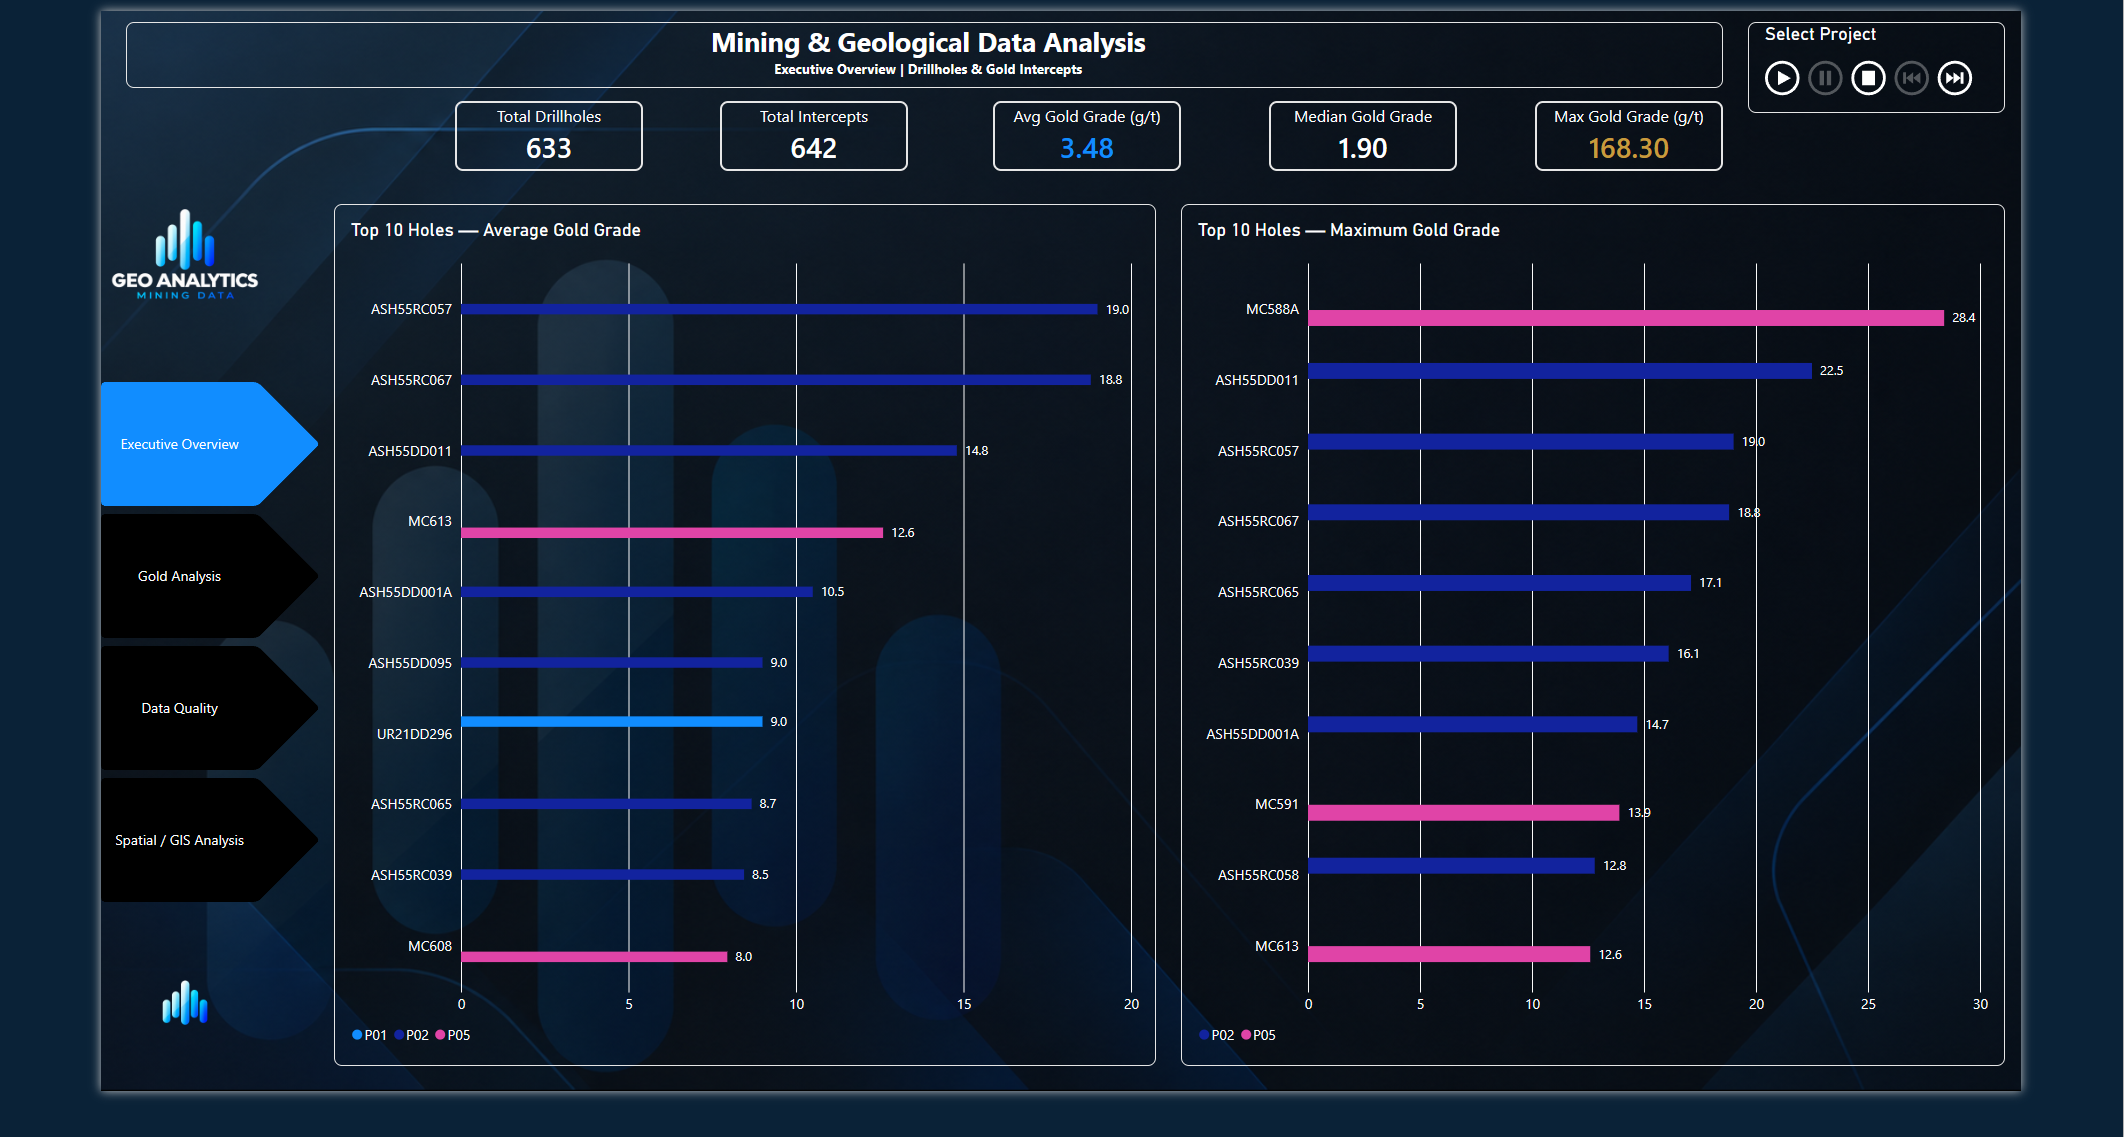

What the dashboard file says about the page in this screenshot:
{"tool":"powerbi","page":{"name":"Executive Overview","canvas":[1920,1080],"ordinal":0},"visuals":[{"type":"cardVisual","fields":{"Data":["Count(mining_geology_project drillholes.Collar_Record_ID)"]},"box":[0,58.6,241.8,70],"z":0},{"type":"cardVisual","fields":{"Data":["Count(mining_geology_project intercepts.Intercept_ID)"]},"box":[232.6,58.9,240.5,69.7],"z":1000},{"type":"cardVisual","fields":{"Data":["Max(mining_geology_project intercepts.Au_g_t)"]},"box":[932.2,58.6,245.9,70],"z":2000},{"type":"cardVisual","fields":{"Data":["Avg(mining_geology_project intercepts.Au_g_t)"]},"box":[460.4,58.9,256.2,69.7],"z":3000},{"type":"PBI_CV_16948668_E17D_454B_8664_2F2C470EA8C1","title":"Select Project","fields":{"category":["mining_geology_project drillholes.Project_ID"]},"box":[1178.1,0,741.9,128.6],"z":4000},{"type":"cardVisual","fields":{"Data":["mining_geology_project intercepts.Median Gold Grade"]},"box":[704.8,58.9,237.5,69.7],"z":5000},{"type":"clusteredBarChart","title":"Top 10 Holes — Average Gold Grade","fields":{"Category":["mining_geology_project drillholes.Hole_ID"],"Series":["mining_geology_project intercepts.Project_ID"],"Y":["Avg(mining_geology_project intercepts.Au_g_t)"]},"box":[0,121.4,950.7,959],"z":6000},{"type":"clusteredBarChart","title":"Top 10 Holes — Maximum Gold Grade","fields":{"Category":["mining_geology_project drillholes.Hole_ID"],"Series":["mining_geology_project intercepts.Project_ID"],"Y":["Max(mining_geology_project intercepts.Au_g_t)"]},"box":[950.7,121.4,969.3,959],"z":7000},{"type":"textbox","box":[0,0,1177.9,58.9],"z":8000}]}

Visuals, with their boxes on the page's 1920x1080 design canvas (x1, y1, x2, y2). These are canvas units, not pixel positions in the 2124x1137 screenshot, which may show the page scaled, cropped or inside an application window:
cardVisual - Count(mining_geology_project drillholes.Collar_Record_ID): (x1=0, y1=59, x2=242, y2=129)
cardVisual - Count(mining_geology_project intercepts.Intercept_ID): (x1=233, y1=59, x2=473, y2=129)
cardVisual - Max(mining_geology_project intercepts.Au_g_t): (x1=932, y1=59, x2=1178, y2=129)
cardVisual - Avg(mining_geology_project intercepts.Au_g_t): (x1=460, y1=59, x2=717, y2=129)
"Select Project" PBI_CV_16948668_E17D_454B_8664_2F2C470EA8C1: (x1=1178, y1=0, x2=1920, y2=129)
cardVisual - mining_geology_project intercepts.Median Gold Grade: (x1=705, y1=59, x2=942, y2=129)
"Top 10 Holes — Average Gold Grade" clusteredBarChart: (x1=0, y1=121, x2=951, y2=1080)
"Top 10 Holes — Maximum Gold Grade" clusteredBarChart: (x1=951, y1=121, x2=1920, y2=1080)
textbox: (x1=0, y1=0, x2=1178, y2=59)
